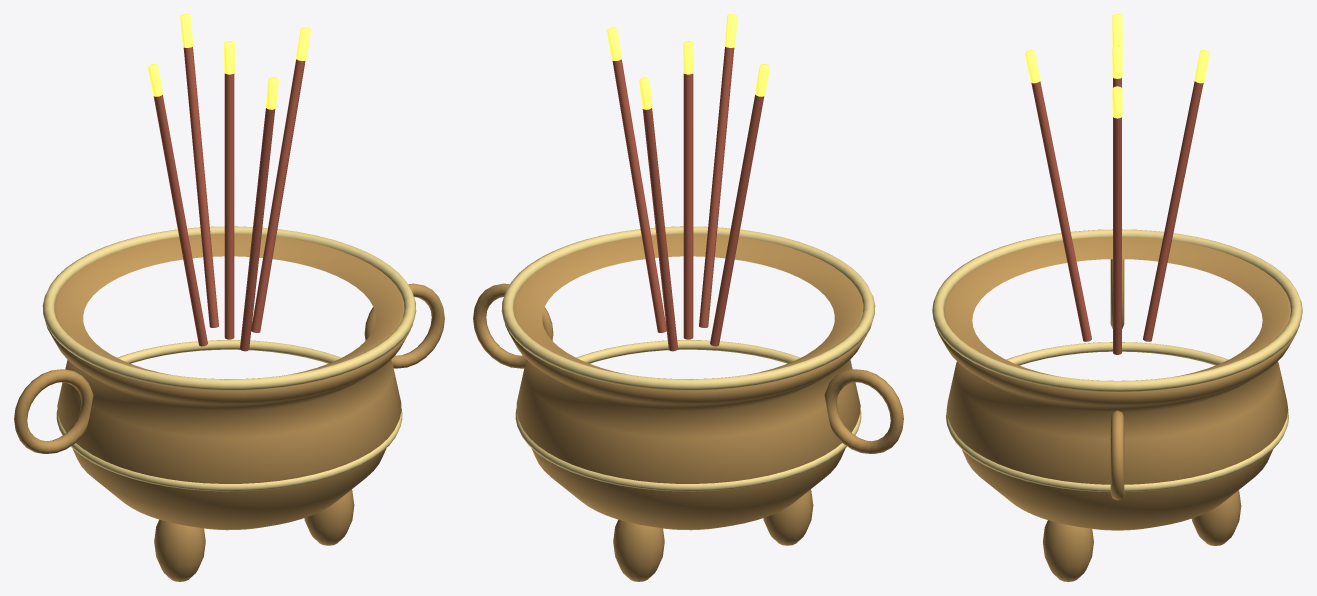
The model's file is incense_5.glb.
3 views of the same model, side by side, from view 1: azimuth 30°, elevation 25°; view 2: azimuth 150°, elevation 25°; view 3: azimuth 270°, elevation 25° (orthographic).
Visible parts, largest first — view 1: censer, lip, band, ear-1, stick0, stick4, stick2, stick1, foot1, stick3, ear1, foot0; view 2: censer, lip, band, ear-1, stick0, stick3, stick2, stick1, foot2, stick4, ear1, foot1; view 3: censer, lip, band, stick3, stick4, foot0, stick2, foot2, ear1.
Boxes of the visible parts, left/top/right/bottom form: censer: left=46, top=233, right=412, bottom=530; lip: left=42, top=226, right=416, bottom=390; band: left=56, top=340, right=402, bottom=491; ear-1: left=14, top=369, right=93, bottom=453; stick0: left=224, top=73, right=234, bottom=339; stick4: left=183, top=47, right=218, bottom=327; stick2: left=251, top=59, right=305, bottom=332; stick1: left=153, top=94, right=207, bottom=346; foot1: left=154, top=519, right=205, bottom=581; stick3: left=240, top=108, right=275, bottom=351; ear1: left=364, top=283, right=444, bottom=368; foot0: left=304, top=489, right=354, bottom=545; censer: left=505, top=233, right=871, bottom=530; lip: left=501, top=226, right=875, bottom=390; band: left=515, top=340, right=861, bottom=491; ear-1: left=824, top=369, right=903, bottom=453; stick0: left=683, top=73, right=693, bottom=339; stick3: left=699, top=47, right=734, bottom=327; stick2: left=612, top=59, right=666, bottom=332; stick1: left=710, top=94, right=764, bottom=346; foot2: left=613, top=519, right=664, bottom=581; stick4: left=642, top=108, right=677, bottom=351; ear1: left=473, top=283, right=553, bottom=368; foot1: left=763, top=489, right=813, bottom=545; censer: left=935, top=236, right=1299, bottom=530; lip: left=932, top=229, right=1302, bottom=391; band: left=946, top=342, right=1288, bottom=492; stick3: left=1031, top=81, right=1091, bottom=341; stick4: left=1143, top=81, right=1203, bottom=341; foot0: left=1043, top=520, right=1093, bottom=581; stick2: left=1113, top=117, right=1121, bottom=354; foot2: left=1192, top=490, right=1241, bottom=545; ear1: left=1110, top=410, right=1124, bottom=500.
Size of the model in its own units: 1.15 by 1.28 by 0.868.
